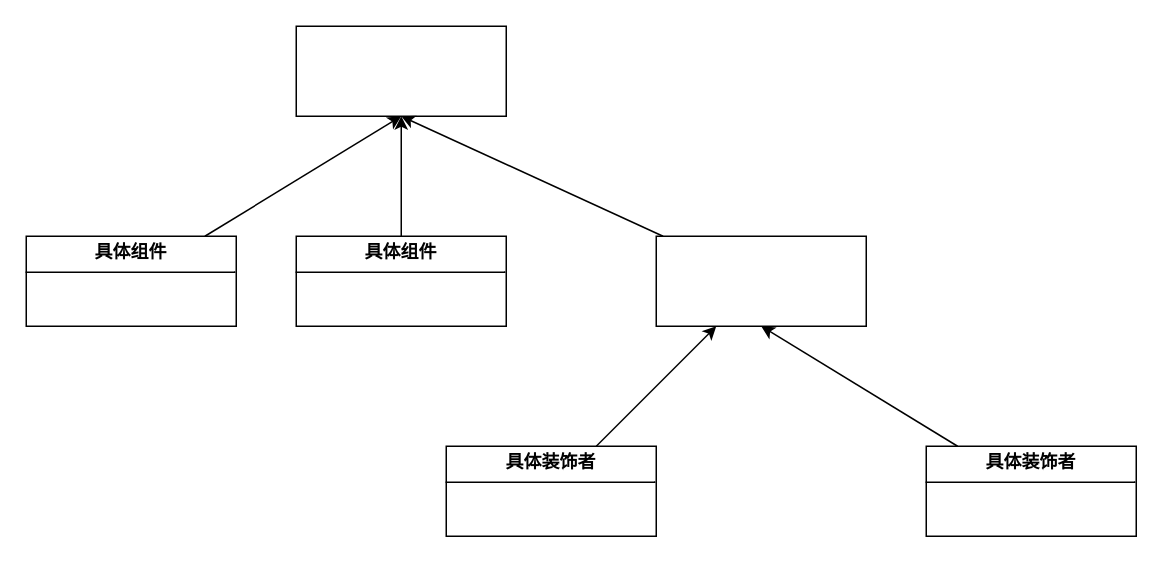
The diagram is 1163 pixels wide and 563 high, and some of its shapes have lost their labels. The shapes that lost their labels are listed below. From the top down, each one's centre as x and y in pixels, then its label:
At (x=400, y=70): "抽象组件".
At (x=760, y=280): "装饰者".
